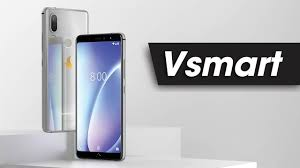vsmart: (67, 31, 131, 164)
